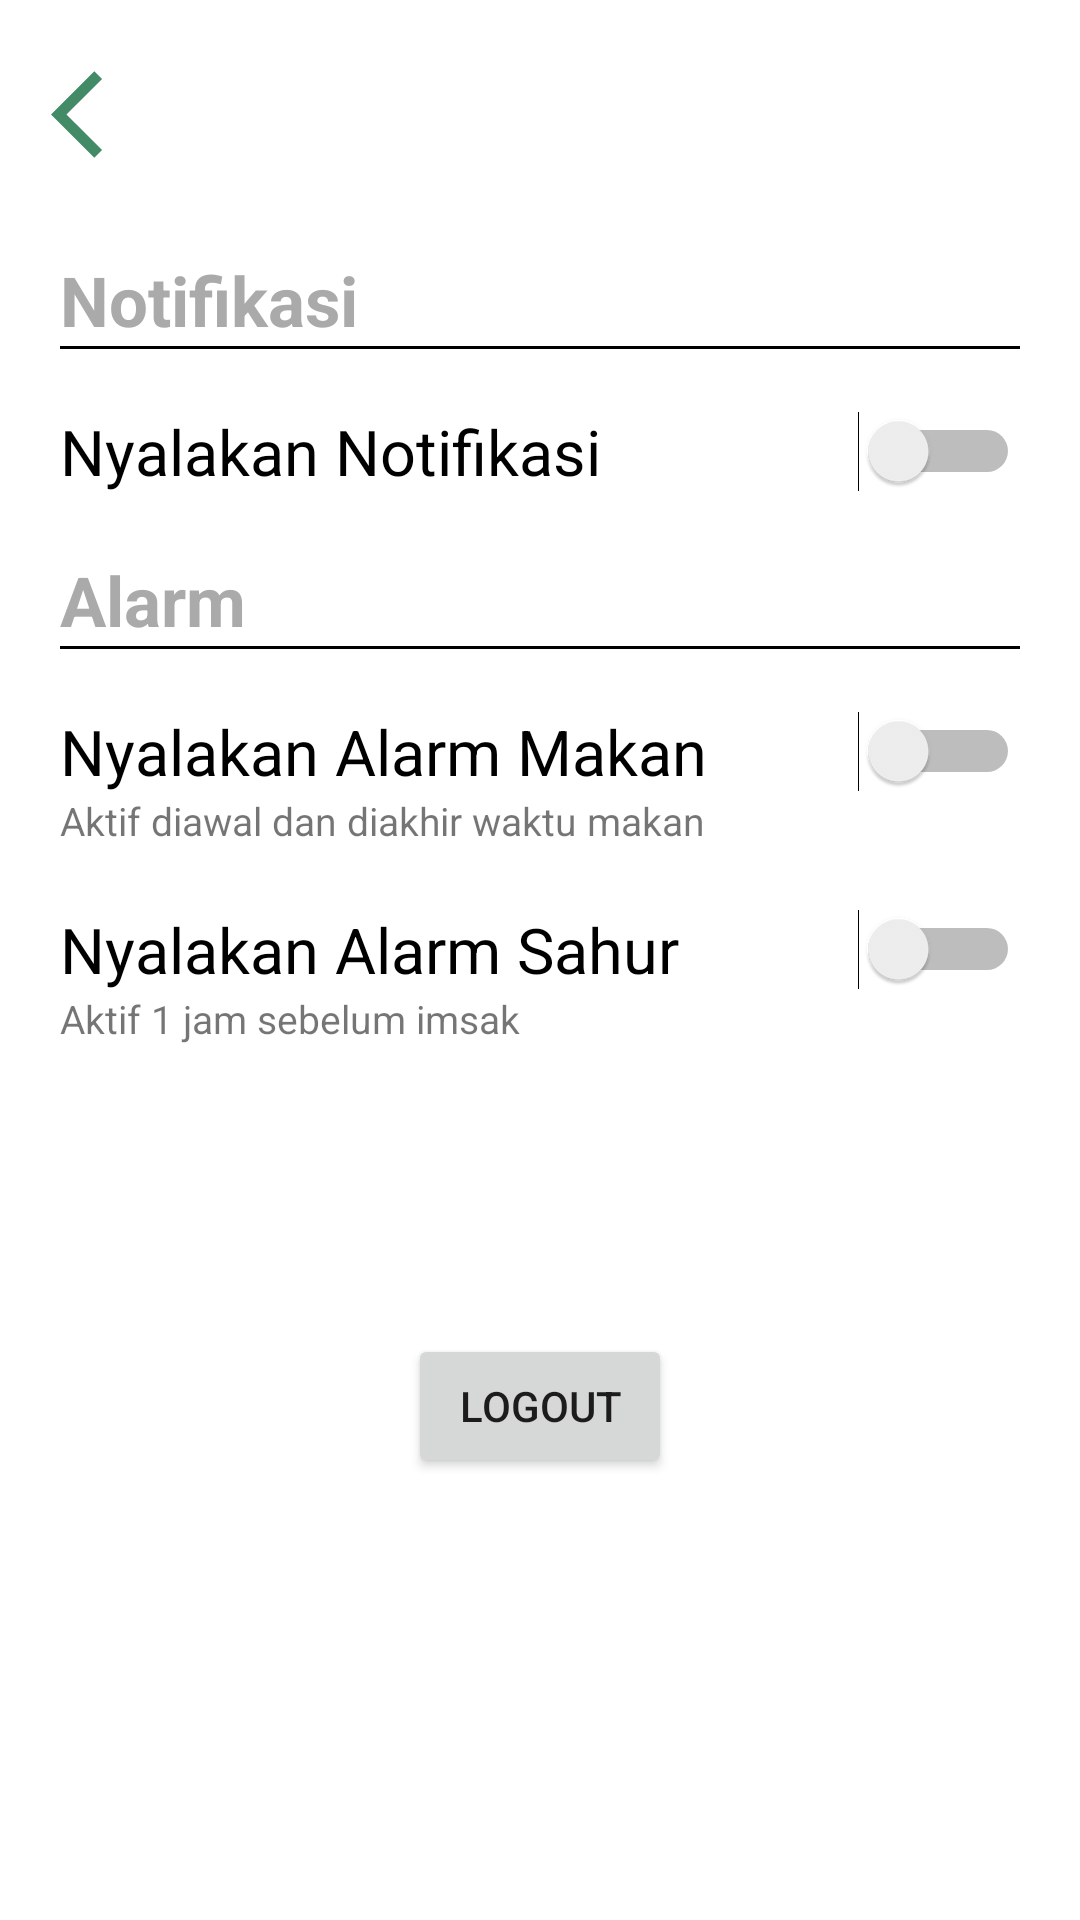

Where to tap for icons on this 1080 × 1920 app screen, as [x,y]:
back: [76,114]
